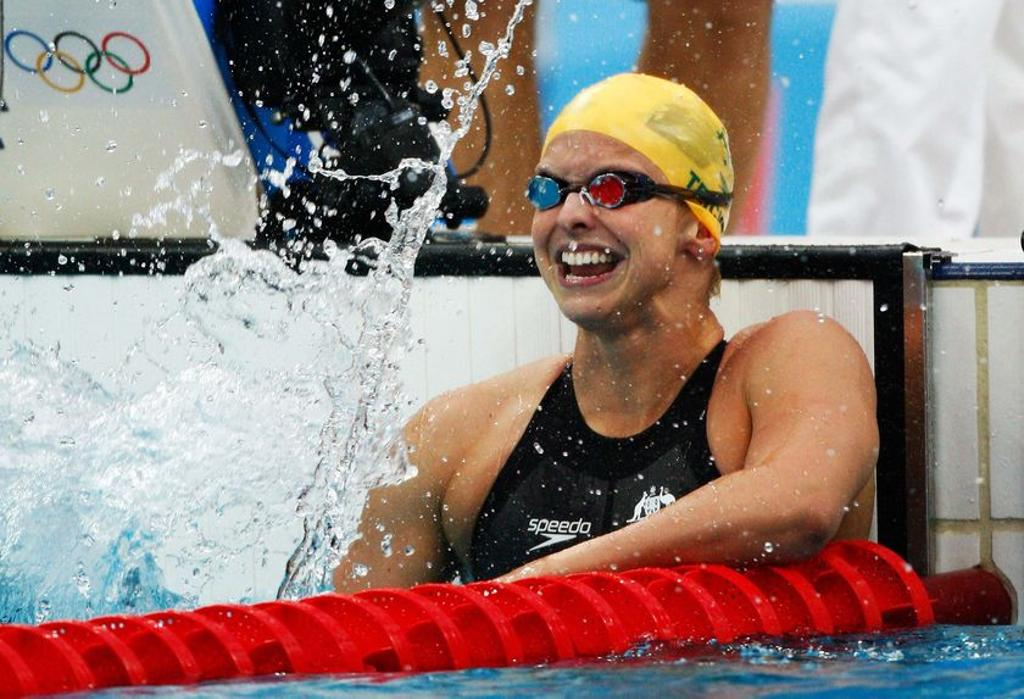face: (528, 140, 654, 320)
